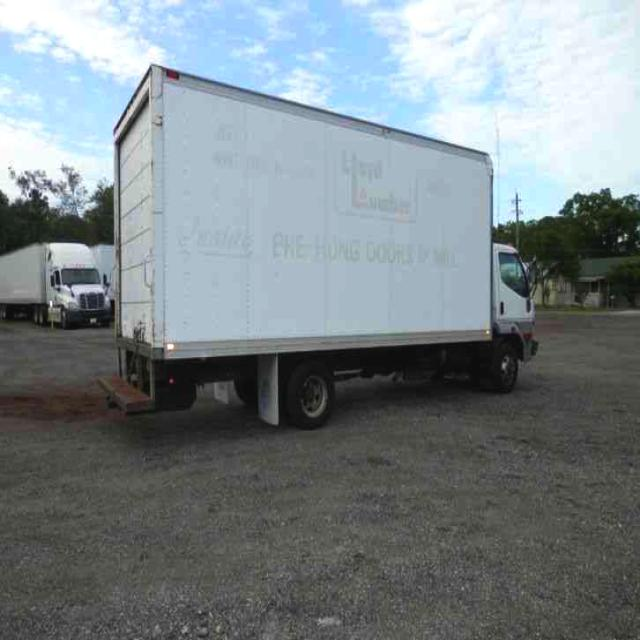truck: (107, 62, 542, 427), (1, 233, 116, 331)
